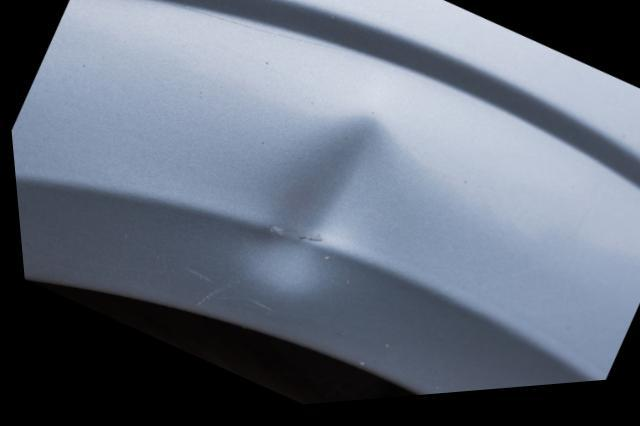dent: (237, 121, 408, 303)
